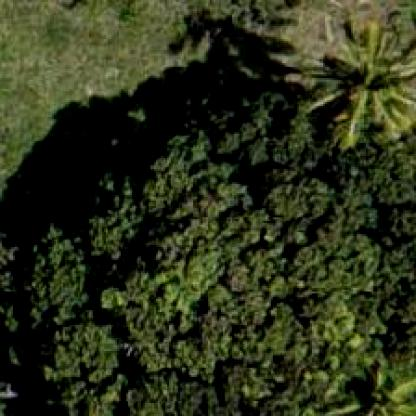coconut tree: (277, 16, 415, 148)
